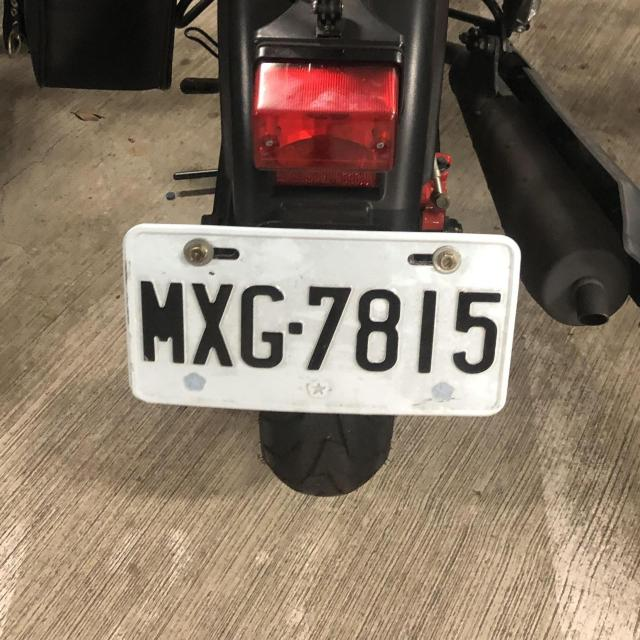W: (112, 214, 527, 428)
